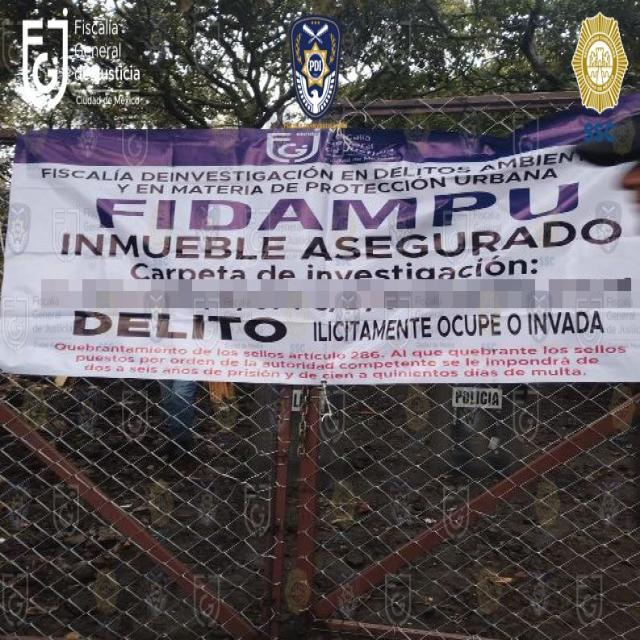stamps: (0, 91, 639, 384)
